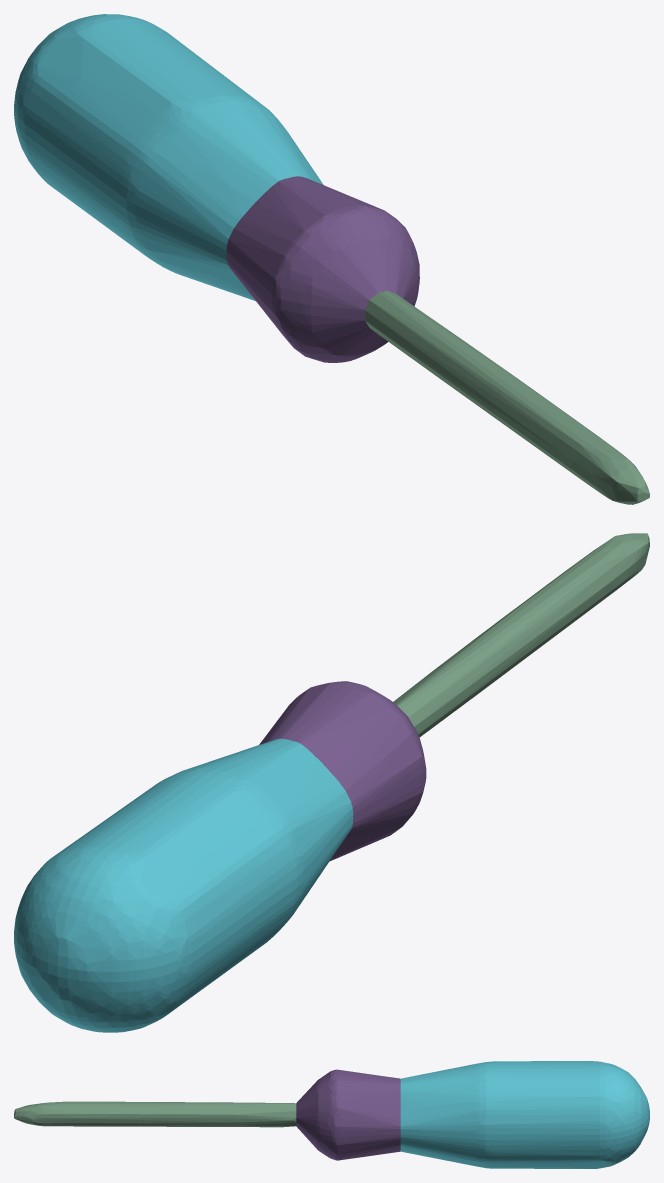
Rendered from screwdriver_collision.obj.
3 renders of one model, top to bottom at view 1: azimuth 30°, elevation 25°; view 2: azimuth 150°, elevation 25°; view 3: azimuth 270°, elevation 25°, orthographic. The views are drawn at different scales.
Parts seen in each view (by area): view 1: geometry_2, geometry_1, geometry_0; view 2: geometry_2, geometry_1, geometry_0; view 3: geometry_2, geometry_1, geometry_0.
Boxes of the visible parts, box(x1,y1,x2,y2) form: geometry_2: box(14, 14, 323, 300); geometry_1: box(226, 176, 419, 362); geometry_0: box(365, 290, 649, 504); geometry_2: box(14, 738, 353, 1032); geometry_1: box(259, 681, 426, 861); geometry_0: box(393, 533, 649, 737); geometry_2: box(400, 1061, 649, 1168); geometry_1: box(296, 1069, 400, 1160); geometry_0: box(14, 1101, 296, 1127).
Size of the model in its own units: 0.0361 by 0.0362 by 0.2177.
